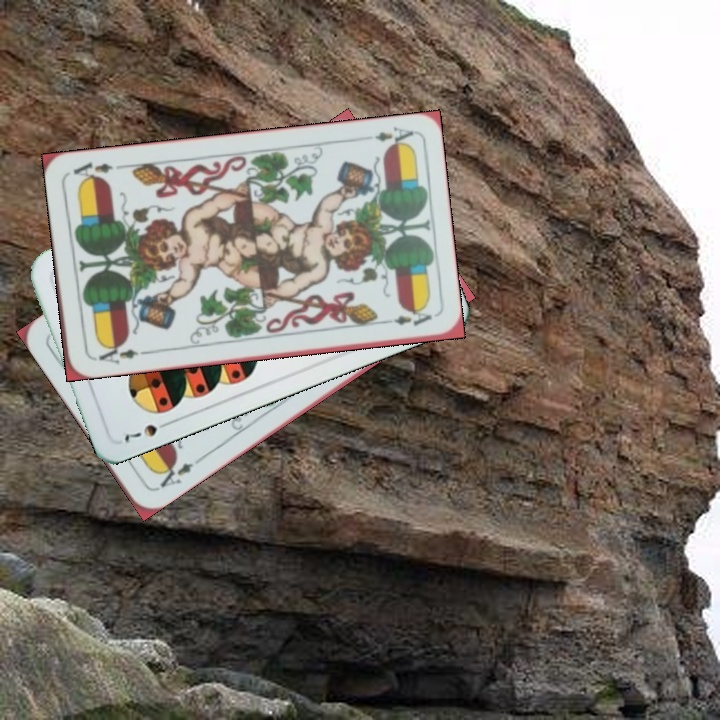EA: (151, 457, 196, 494), (89, 339, 148, 367), (357, 123, 416, 150)
S7: (120, 416, 174, 446)
